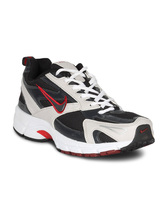shoes: (12, 56, 158, 158)
